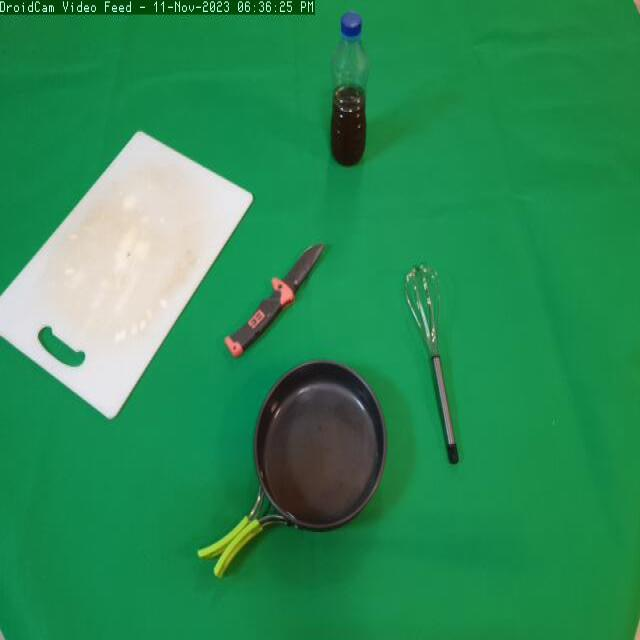cutting board: (3, 127, 259, 425)
fullbottle: (321, 5, 382, 175)
knife: (222, 230, 332, 366)
pan: (193, 353, 393, 589)
whisk: (396, 262, 476, 476)
